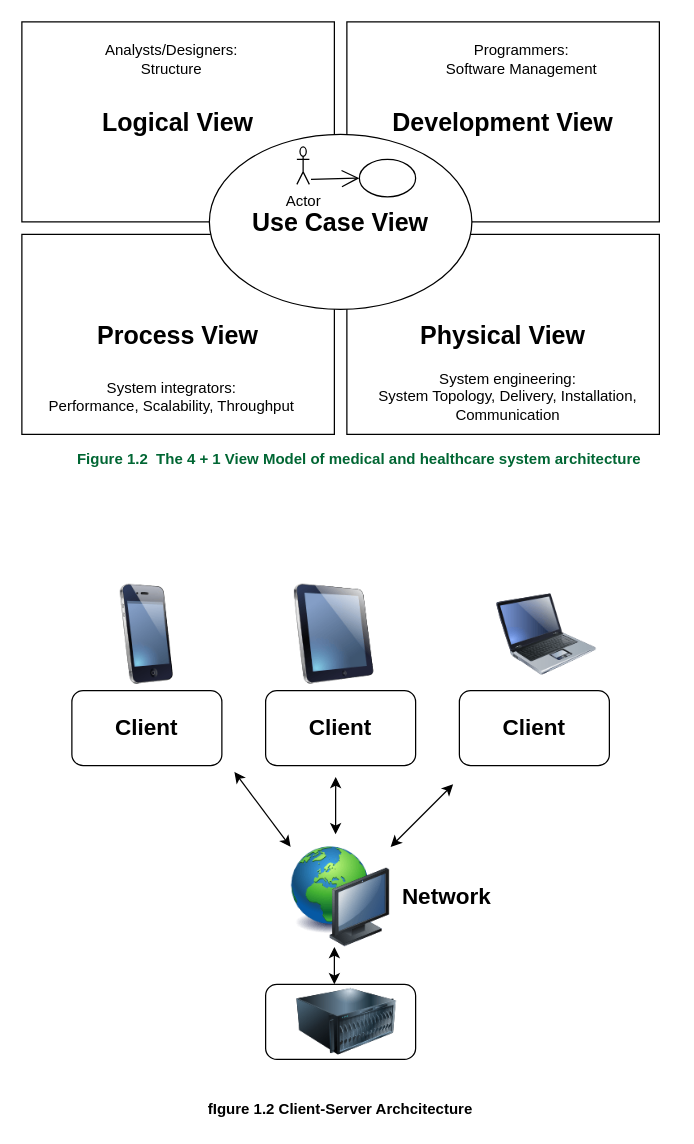
The diagram is 694 pixels wide and 1144 high, and some of its shapes have lost their labels. Here are the shapes that lost their labels. From the top down, the centre of each, then its label:
(387,177): Use Case
(346,1021): Server
